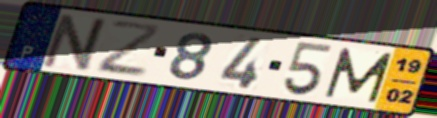4: (217, 34, 264, 91)
5: (280, 40, 336, 98)
8: (168, 31, 215, 81)
M: (321, 46, 396, 105)
N: (38, 12, 114, 74)
Z: (96, 19, 165, 79)
